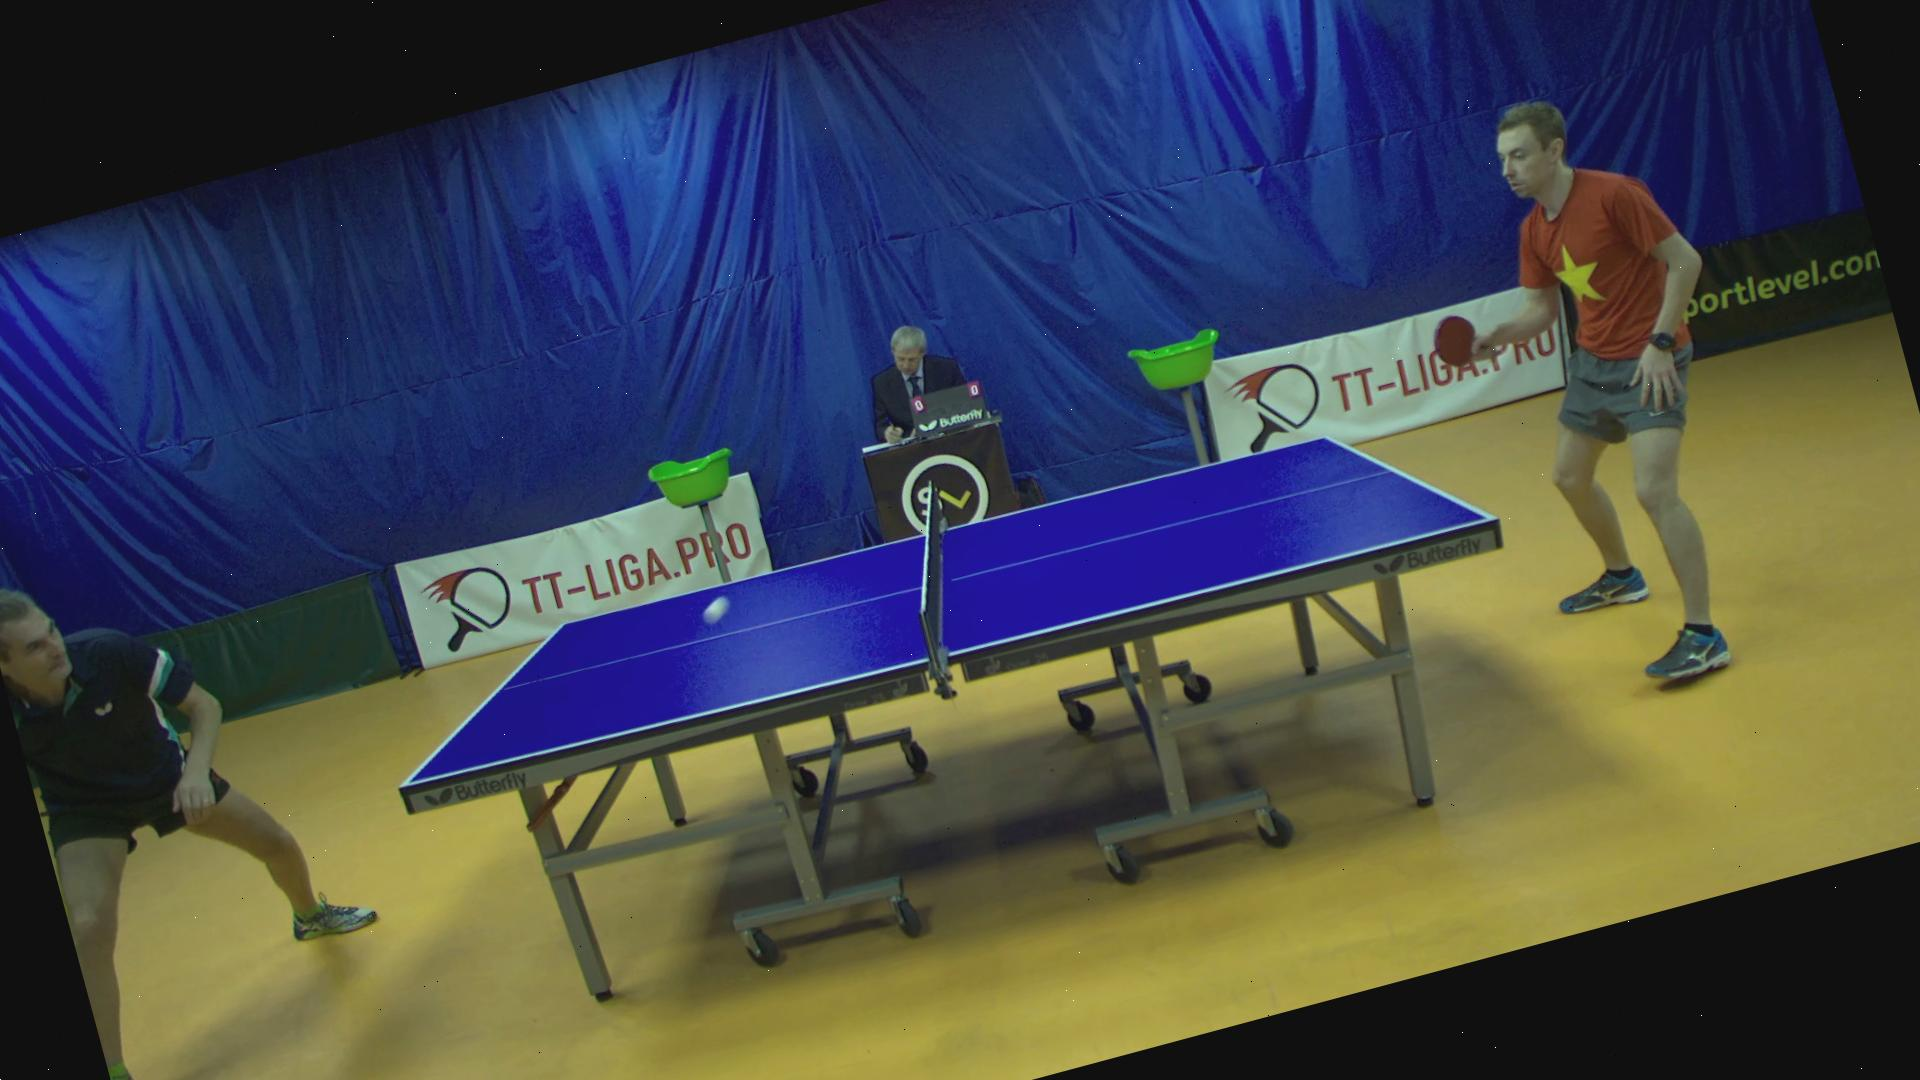ball: (695, 589, 737, 626)
